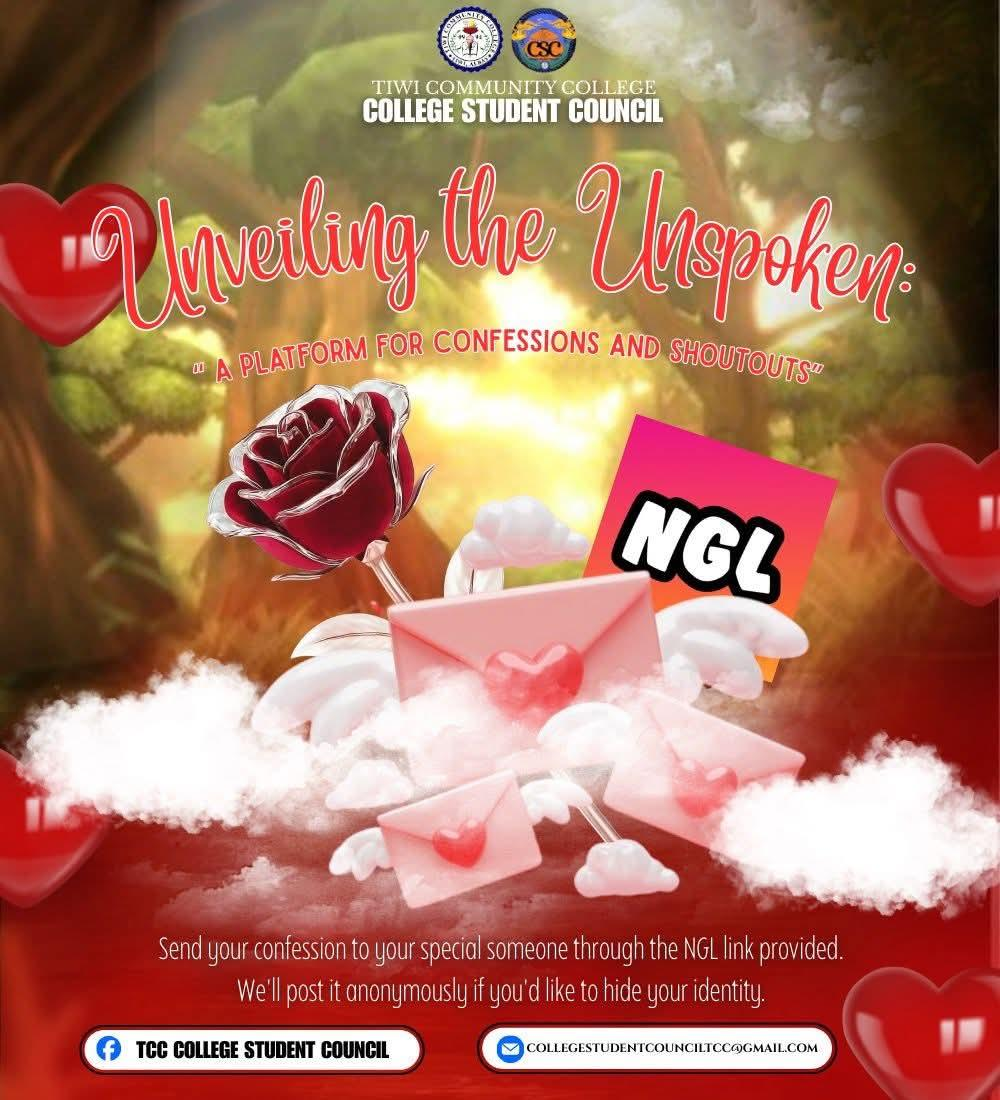embellishment: (0, 372, 999, 947), (0, 169, 168, 355), (837, 955, 999, 1099), (870, 436, 999, 614)
logo: (510, 0, 583, 77), (435, 0, 509, 75), (93, 1029, 127, 1066), (494, 1027, 528, 1064), (450, 24, 451, 25)
text: (83, 147, 933, 420), (150, 926, 853, 1012), (596, 473, 813, 623), (355, 74, 668, 129), (131, 1034, 397, 1064), (524, 1035, 826, 1057)
underlay: (2, 0, 999, 800), (0, 812, 999, 1099), (0, 317, 298, 733)
